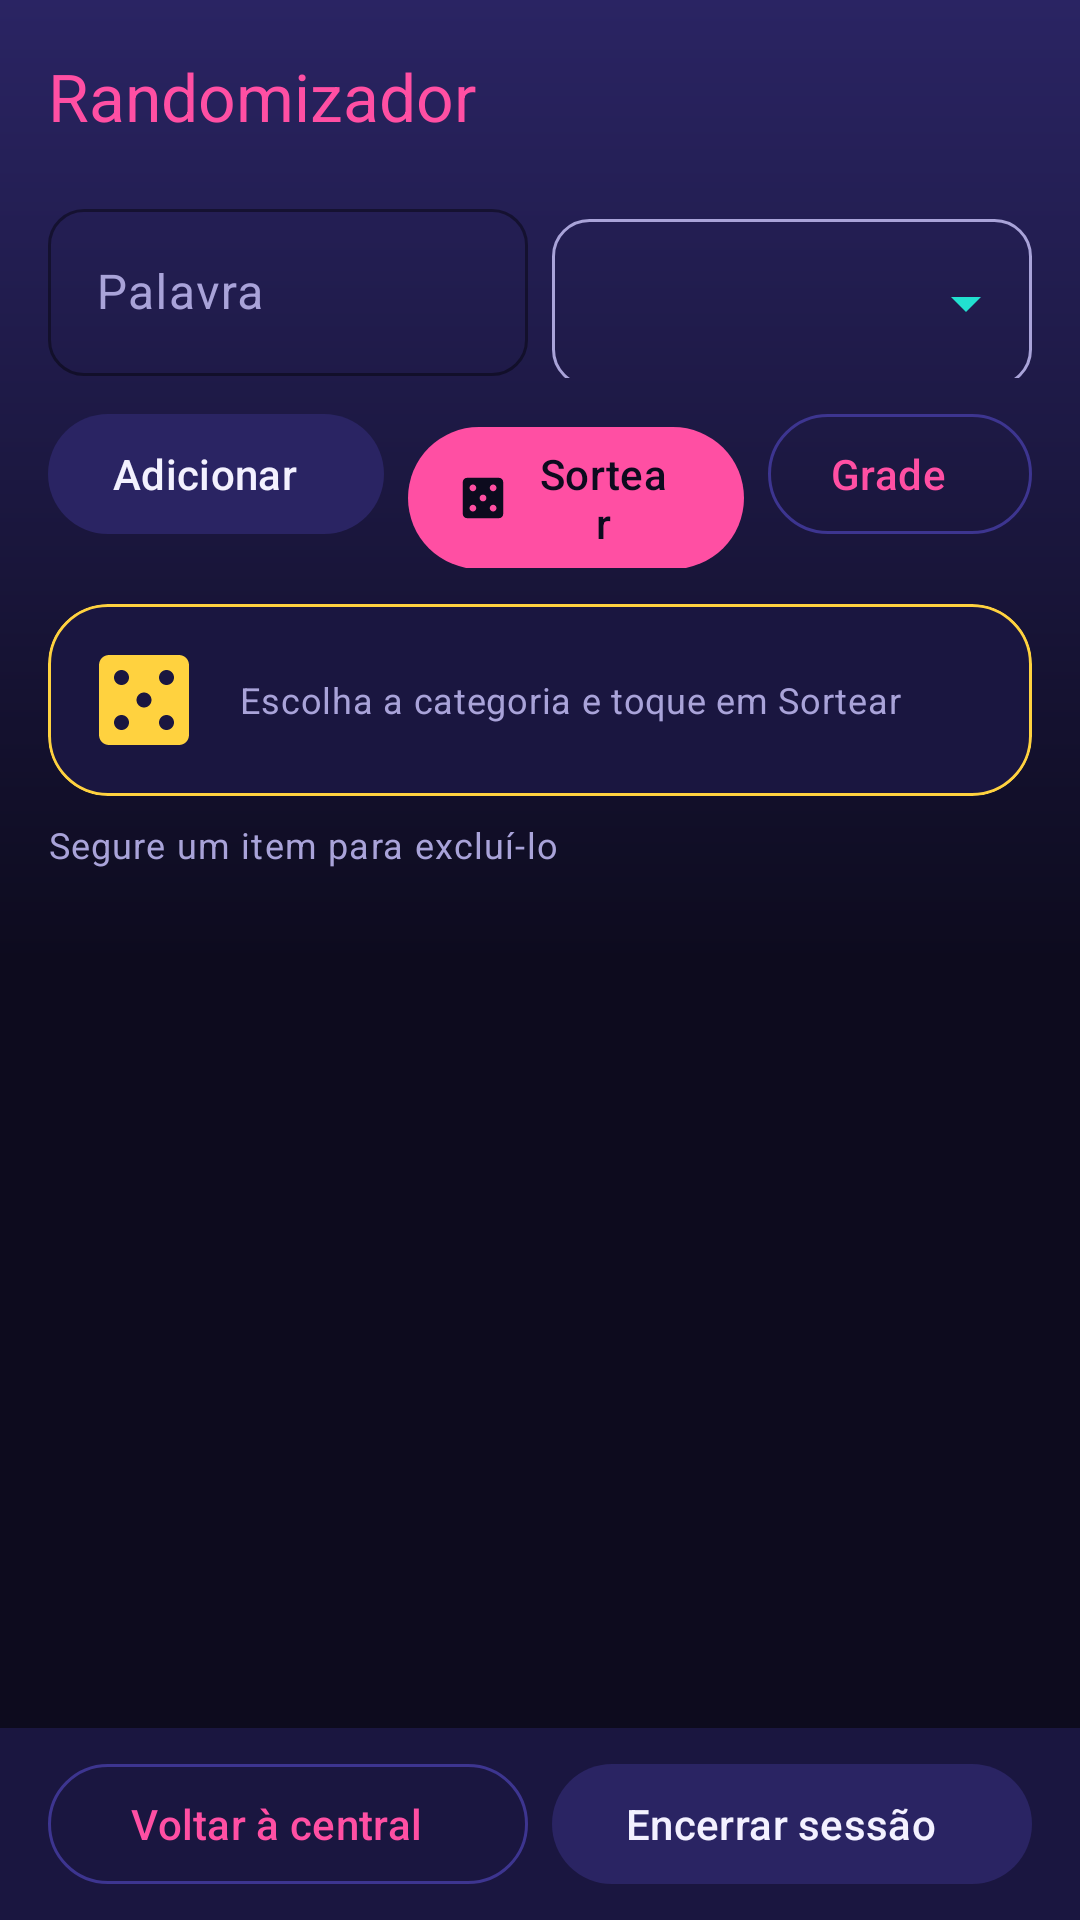

Point at icon controls on the screen. Image size 1080w x 1920h, points as [x,y].
Ícone de embaralhar do Randomizador: [144,700]
